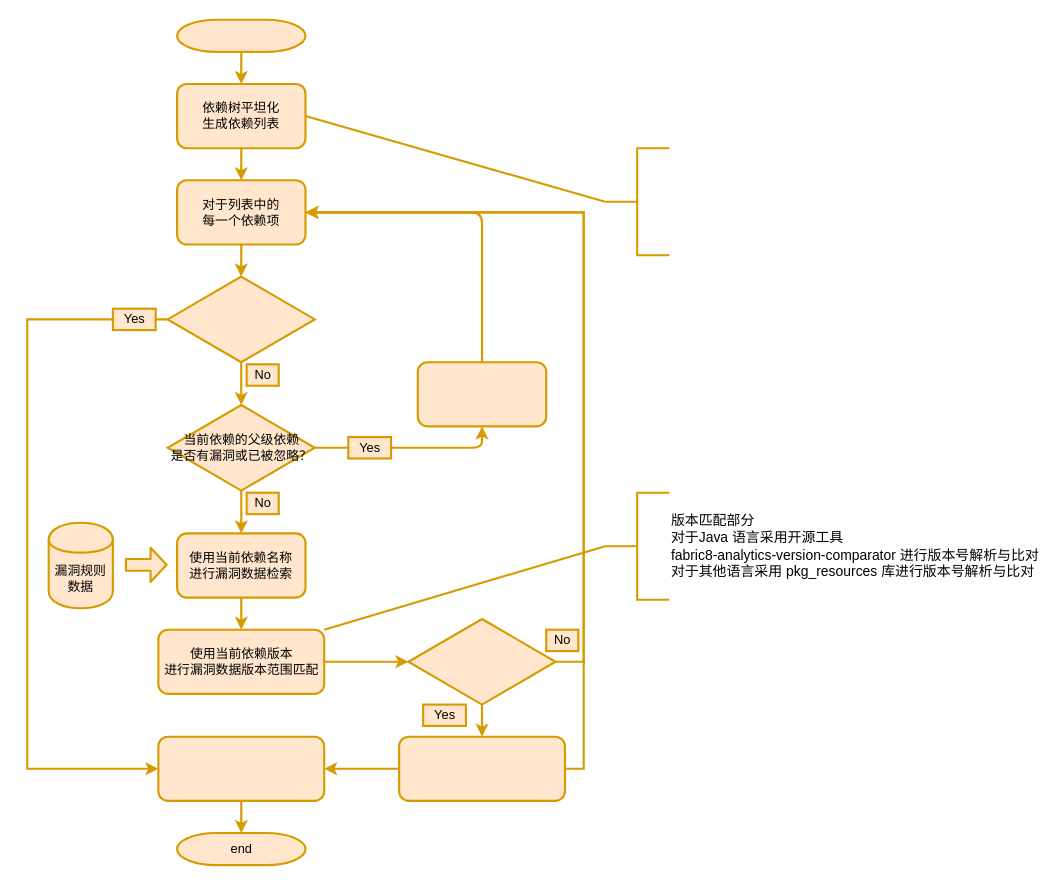
The diagram is 1057 pixels wide and 884 high, and some of its shapes have lost their labels. The box of each missing label's shape, as (x1, y1, x2, y2) in pixels:
依赖树数据结构参考 API小节内容: (603, 147, 670, 256)
列表遍历结束？: (166, 275, 315, 363)
将当前依赖节点 加入可忽略集合: (416, 361, 547, 427)
开始: (175, 18, 306, 52)
当前依赖加入 最终结果列表: (398, 735, 565, 801)
版本匹配成功？: (407, 617, 556, 705)
结果返回: (157, 735, 325, 801)
